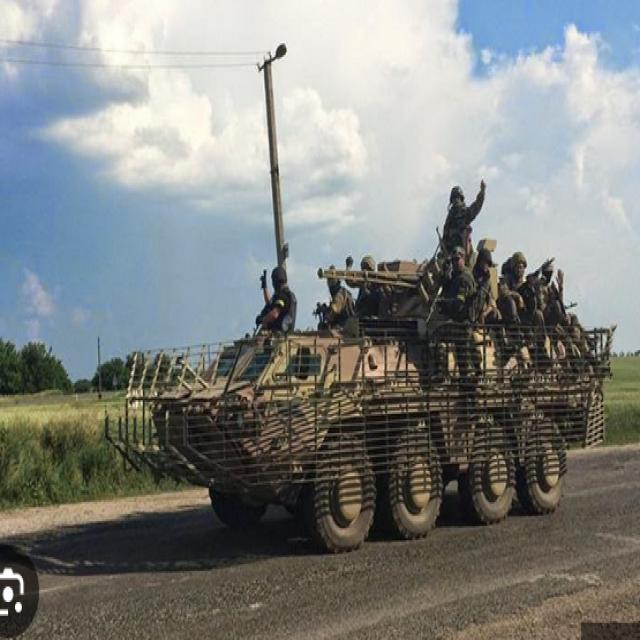MIL_APC: (132, 222, 610, 546)
